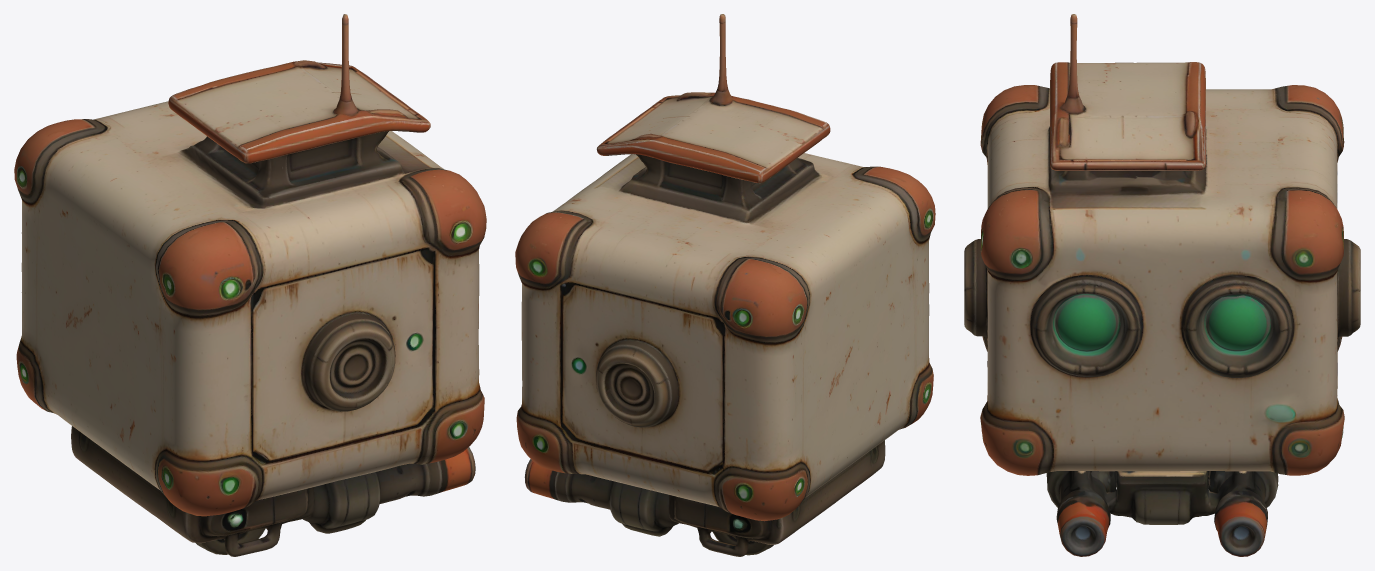
File: ConpanionBot_Lvl_2.fbx
3 views of the same model, side by side, from view 1: azimuth 30°, elevation 25°; view 2: azimuth 150°, elevation 25°; view 3: azimuth 270°, elevation 25° (orthographic). The views are drawn at different scales.
Visible parts, largest first — view 1: tripo_node_d8d0a70a; view 2: tripo_node_d8d0a70a; view 3: tripo_node_d8d0a70a.
Part boxes in pixels (x1=…): tripo_node_d8d0a70a: x1=14, y1=14, x2=486, y2=556; tripo_node_d8d0a70a: x1=515, y1=14, x2=935, y2=556; tripo_node_d8d0a70a: x1=964, y1=14, x2=1360, y2=556.
Size of the model in its own units: 65.26 by 99.93 by 69.89.
1 material, 1 textured.
